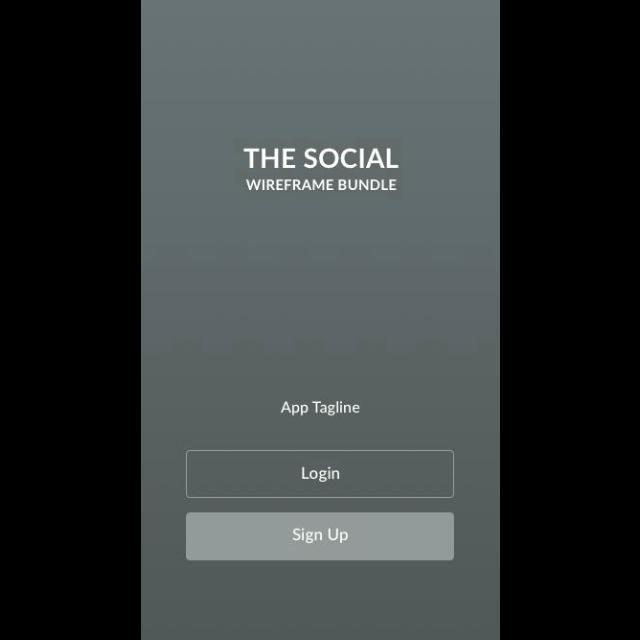text: (242, 148, 400, 170), (245, 180, 397, 192), (280, 400, 360, 416)
textbutton: (186, 450, 454, 498), (186, 512, 454, 560)
